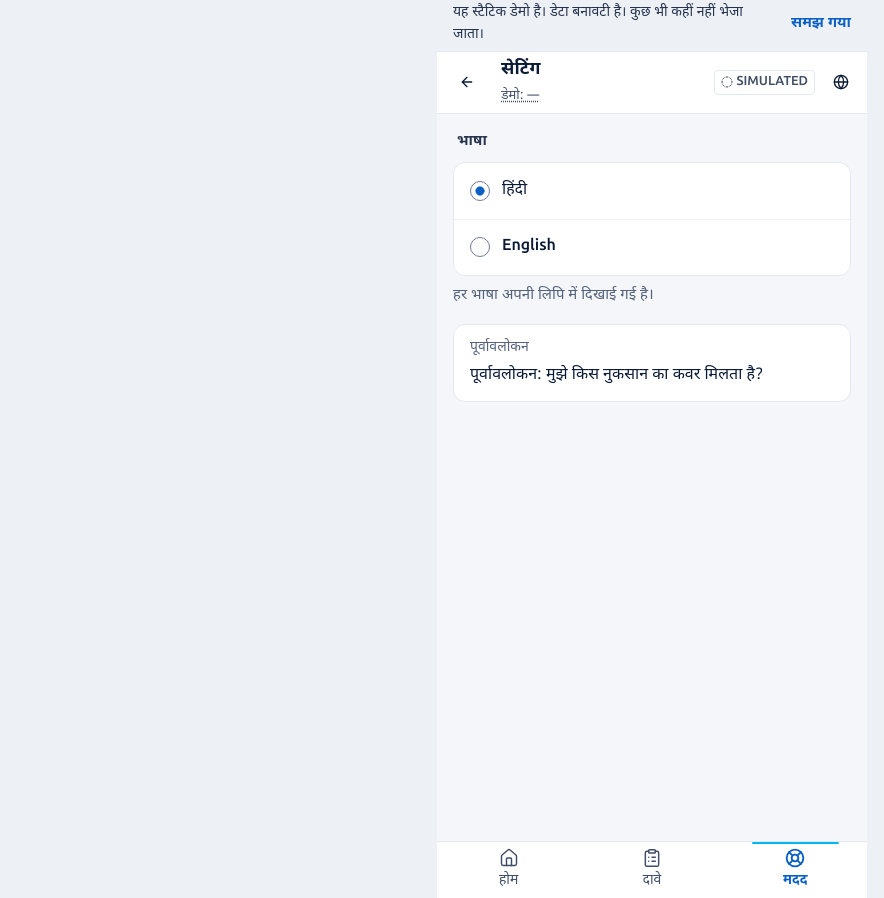
Test: Language › switches to English: root lang, tabs and URL change (AC-32)
Expected: the element with test id "screen-language" is shown, [453,130,851,402]
Click the radio button with test id "lang-option-en": {"x": 480, "y": 247} [470,237,490,257]
(page scrolled)
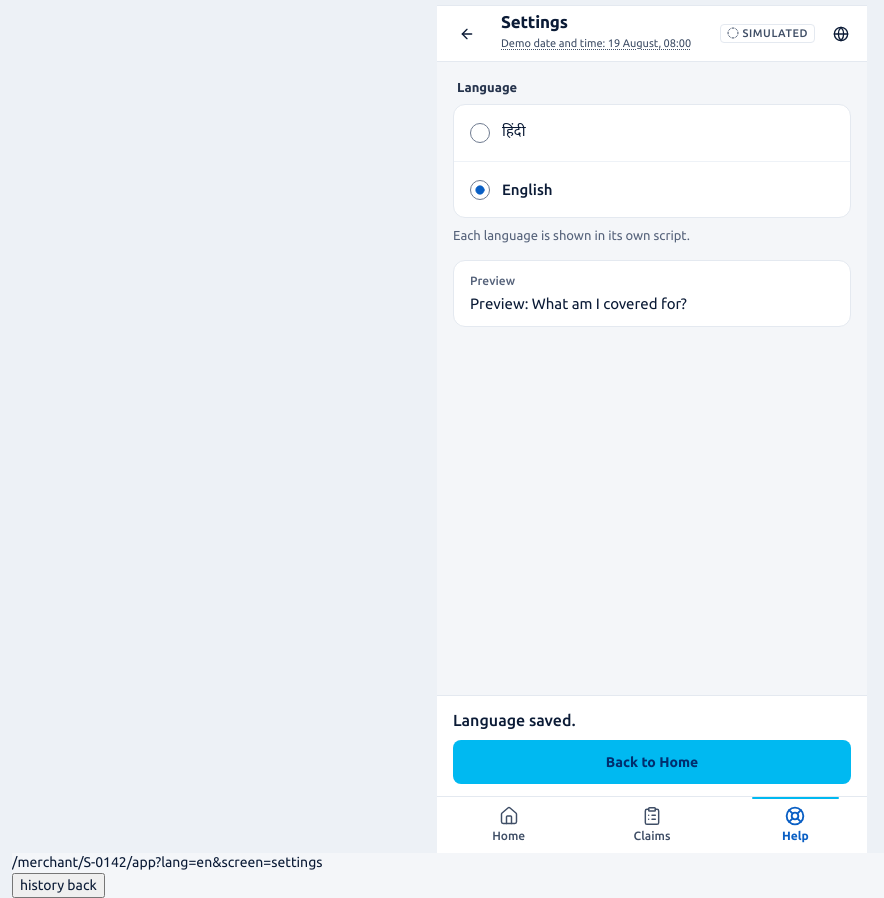
Expected: the link with test id "app-tab-home" reads "Home", [492,806,525,842]
Expected: the link with test id "app-tab-claims" reads "Claims", [634,806,670,842]
Expected: the link with test id "app-tab-help" reads "Help", [782,806,809,842]
